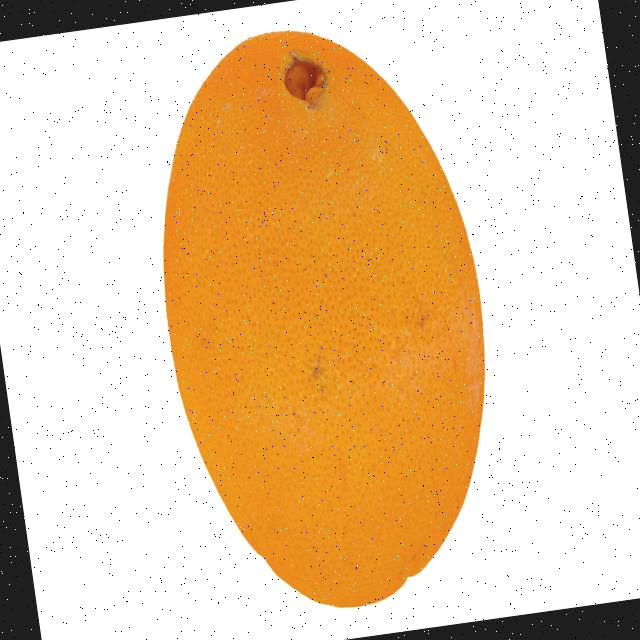orange: (128, 2, 524, 630)
